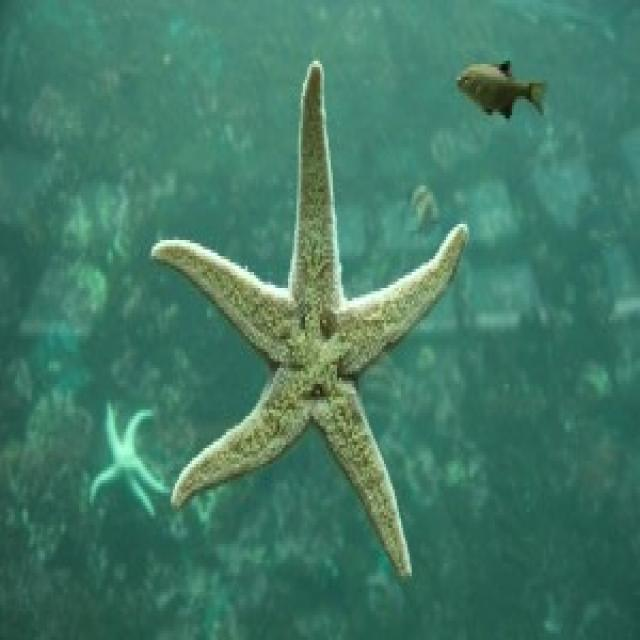Starfish: (152, 63, 462, 586)
